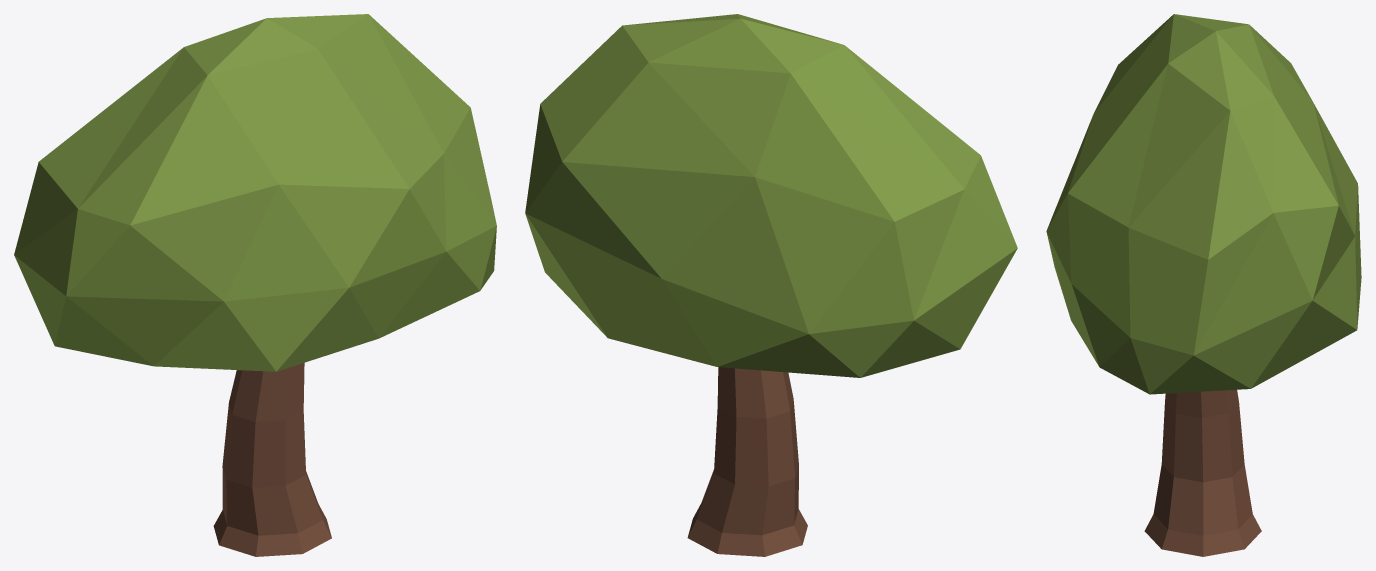
The model's file is OakTree_Sapling.fbx.
3 views of the same model, side by side, from view 1: azimuth 30°, elevation 25°; view 2: azimuth 150°, elevation 25°; view 3: azimuth 270°, elevation 25° (orthographic). The views are drawn at different scales.
Parts seen in each view (by area): view 1: Icosphere.001; view 2: Icosphere.001; view 3: Icosphere.001.
Boxes of the visible parts, x1,y1,x2,y2 form: Icosphere.001: (14, 14, 496, 556); Icosphere.001: (525, 14, 1017, 556); Icosphere.001: (1046, 14, 1361, 556).
Size of the model in its own units: 1421 by 1536 by 877.
